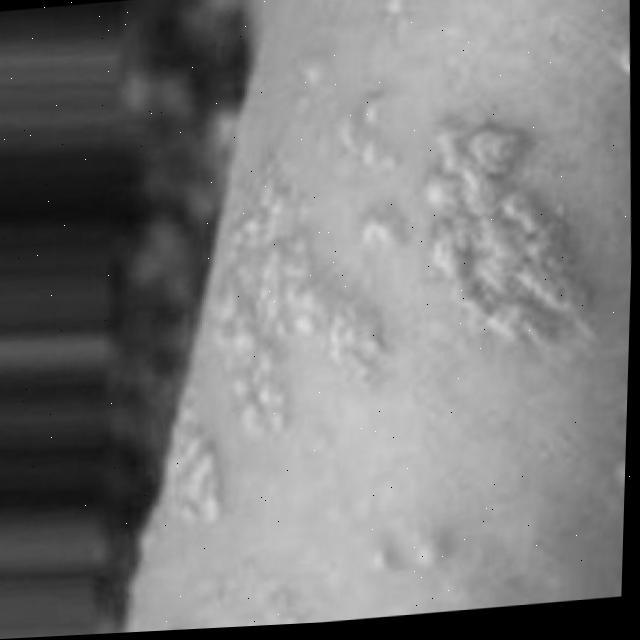Shingles: (206, 46, 410, 444), (417, 99, 612, 367), (150, 404, 229, 542), (611, 40, 630, 76), (613, 457, 625, 494), (619, 392, 627, 416)
